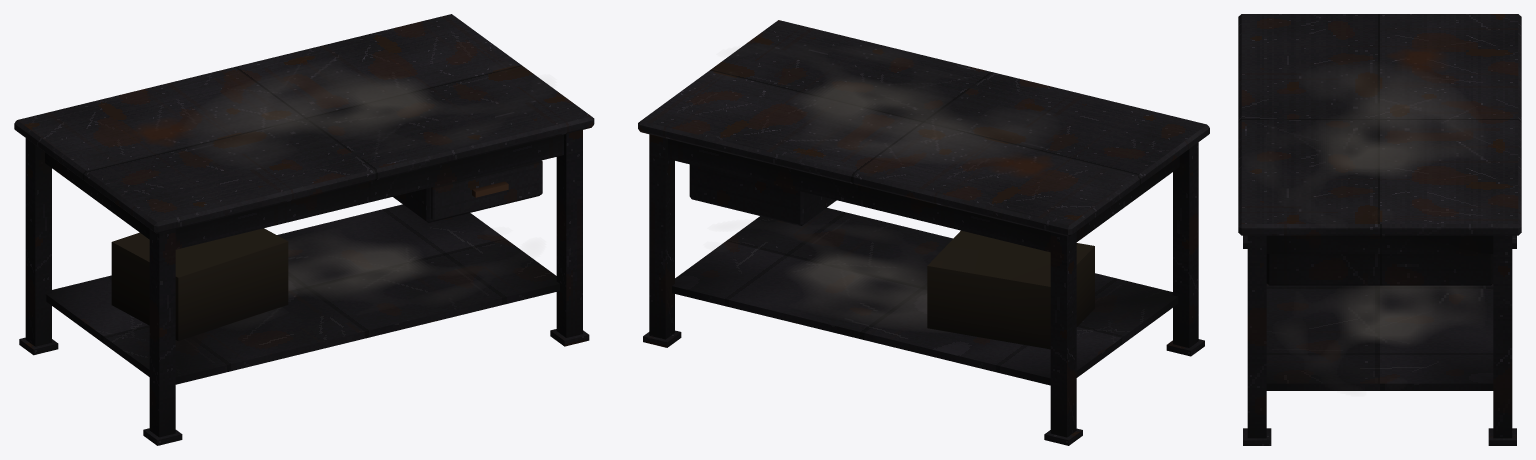
The model's file is table_steel.glb.
The picture shows the model from 3 angles, left to right: view 1: azimuth 30°, elevation 25°; view 2: azimuth 150°, elevation 25°; view 3: azimuth 270°, elevation 25°; orthographic projection.
Visible parts, largest first — view 1: body, decals; view 2: body, decals; view 3: body, decals.
Part boxes in pixels (bbox=[...]): body: bbox=[14, 14, 594, 445]; decals: bbox=[134, 71, 438, 295]; body: bbox=[638, 20, 1209, 445]; decals: bbox=[792, 77, 1052, 327]; body: bbox=[1238, 14, 1521, 445]; decals: bbox=[1317, 49, 1474, 343].
Size of what is drawn, in the model's own units: 1.65 by 0.783 by 0.9.
7 materials, 5 textured.
